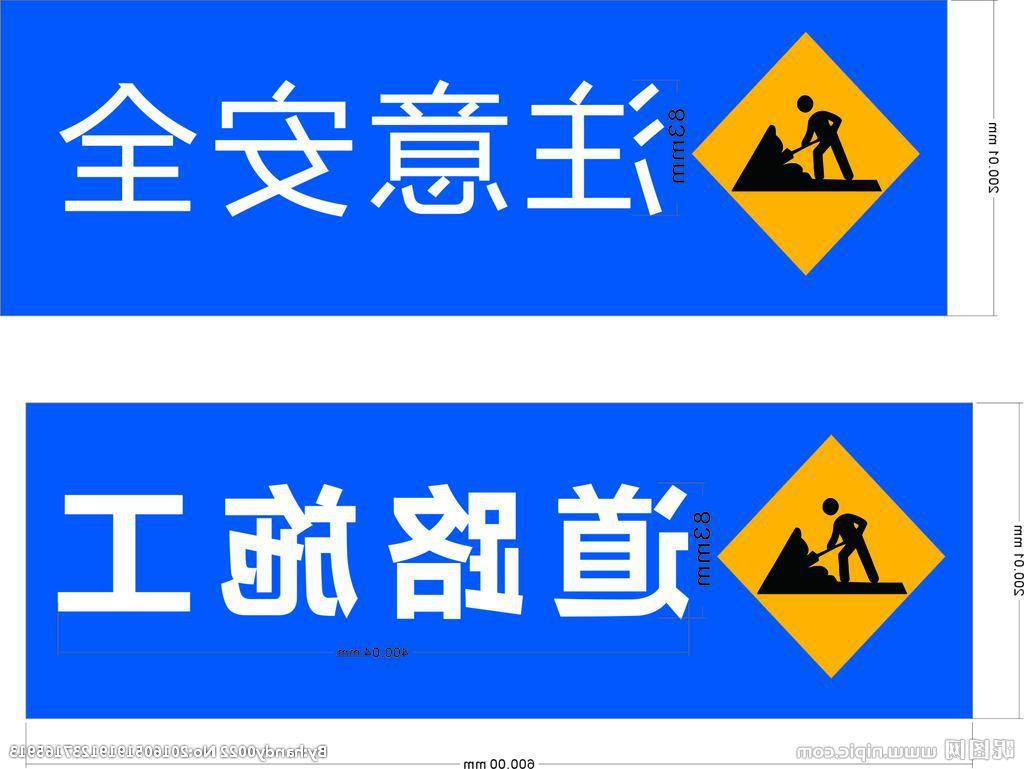sign: (54, 429, 944, 680), (48, 32, 927, 273)
